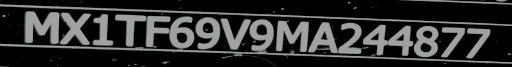letter: (21, 9, 61, 44), (274, 17, 310, 54), (216, 15, 252, 50), (57, 8, 91, 45), (113, 11, 147, 48), (306, 20, 338, 55), (142, 12, 172, 47), (192, 16, 222, 51), (410, 23, 440, 58), (336, 20, 364, 57), (167, 14, 195, 49), (361, 21, 389, 56), (438, 25, 466, 60), (90, 10, 116, 47), (248, 17, 274, 54), (386, 23, 414, 56), (466, 25, 492, 60)
